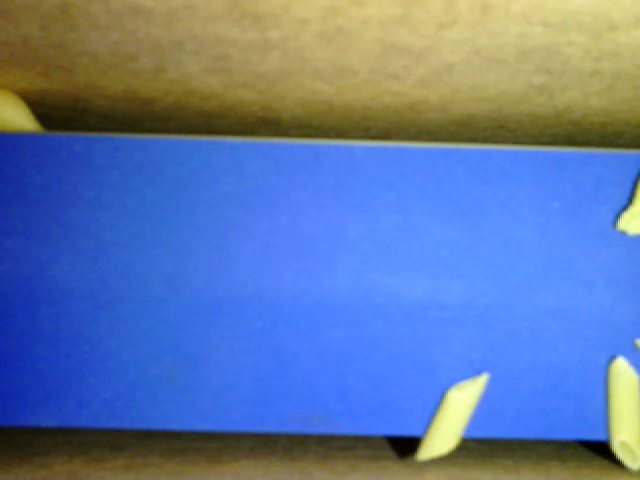penne: (414, 373, 488, 461), (608, 354, 639, 470)
